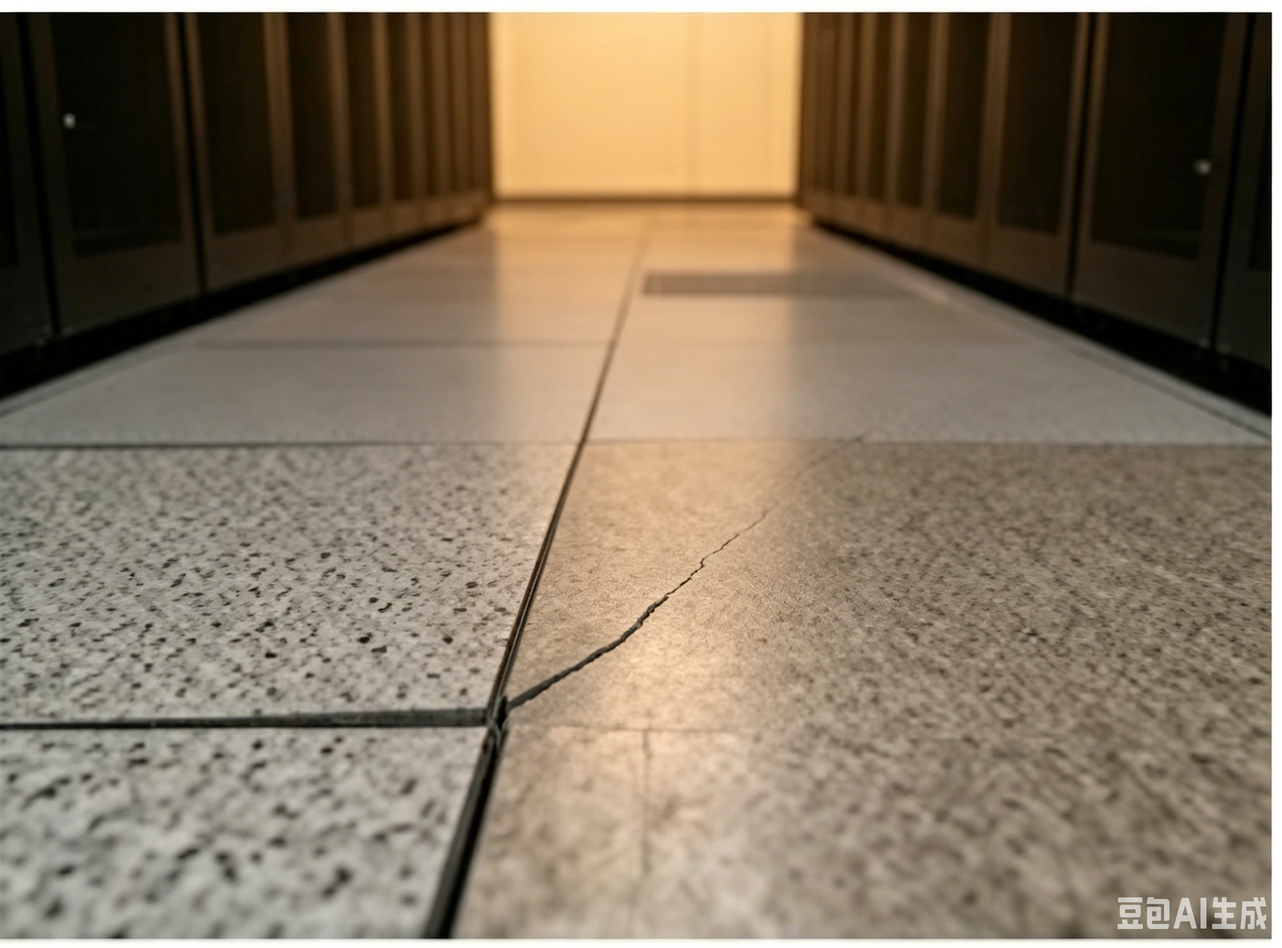floor_defect: (10, 692, 570, 745), (421, 742, 510, 936), (596, 592, 685, 649), (666, 539, 754, 586), (737, 495, 821, 541), (527, 649, 622, 685)
